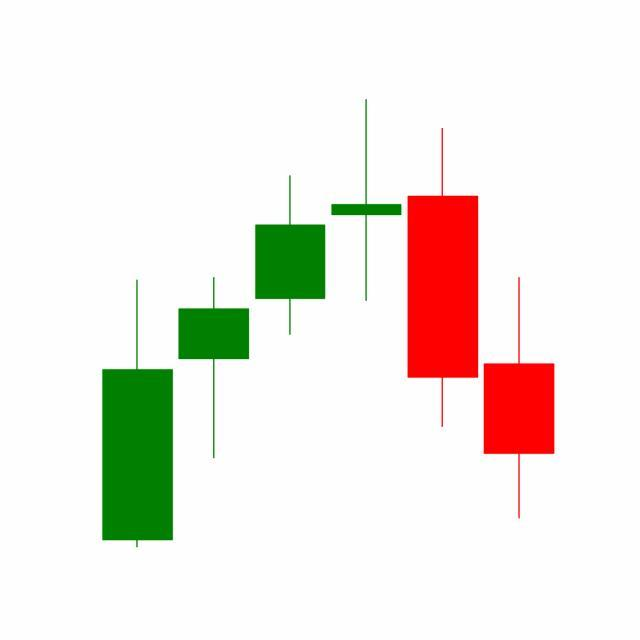Three Line Strike: (175, 99, 482, 463)
